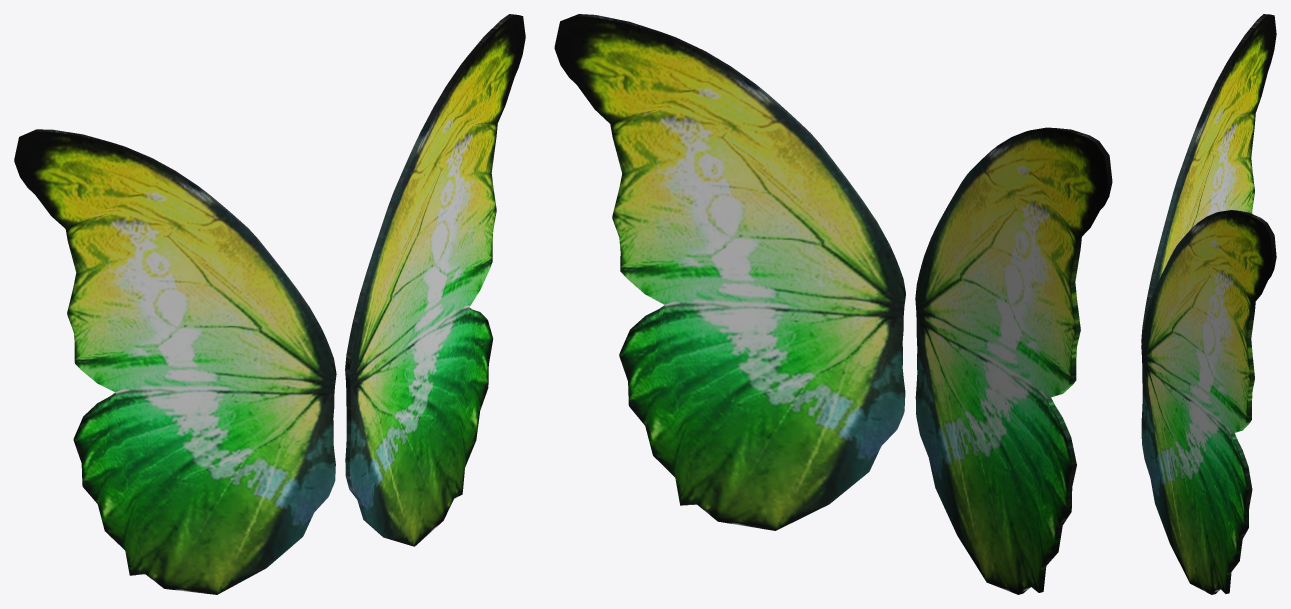
Rendered from Butterfly_Wings_02.fbx.
3 renders of one model, left to right at view 1: azimuth 30°, elevation 25°; view 2: azimuth 150°, elevation 25°; view 3: azimuth 270°, elevation 25°, orthographic. The views are drawn at different scales.
Visible parts, largest first — view 1: ButterflyWings; view 2: ButterflyWings; view 3: ButterflyWings.
Boxes of the visible parts, bbox=[...] form: ButterflyWings: bbox=[14, 14, 525, 594]; ButterflyWings: bbox=[554, 14, 1112, 594]; ButterflyWings: bbox=[1141, 14, 1276, 594].
Bounding box in the file's own units: 9.91 × 8.66 × 2.52.
Materials: 1 (1 with a texture image).
